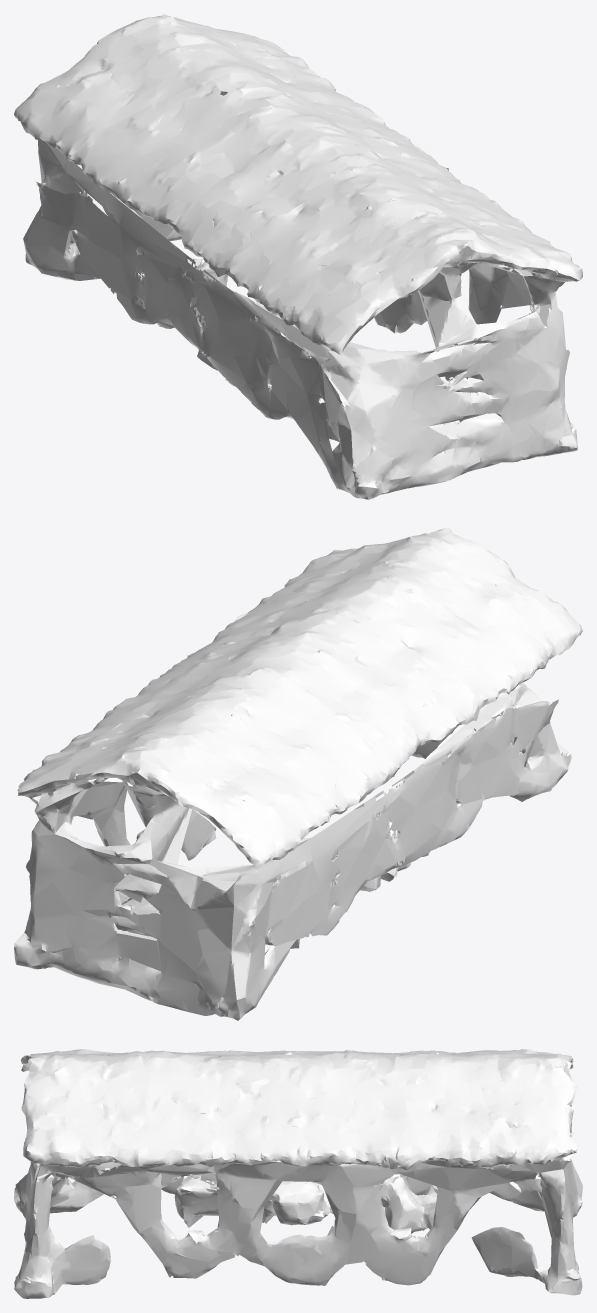
File: stable_hay.glb
3 views of the same model, one above another, from view 1: azimuth 30°, elevation 25°; view 2: azimuth 150°, elevation 25°; view 3: azimuth 270°, elevation 25° (orthographic). The views are drawn at different scales.
Visible parts, largest first — view 1: output_unwrapped; view 2: output_unwrapped; view 3: output_unwrapped.
Boxes of the visible parts, x1,y1,x2,y2 form: output_unwrapped: (14, 14, 582, 499); output_unwrapped: (14, 528, 582, 1020); output_unwrapped: (14, 1049, 582, 1298).
Bounding box in the file's own units: 6.48 × 5.5 × 14.18.
1 material, 1 textured.
